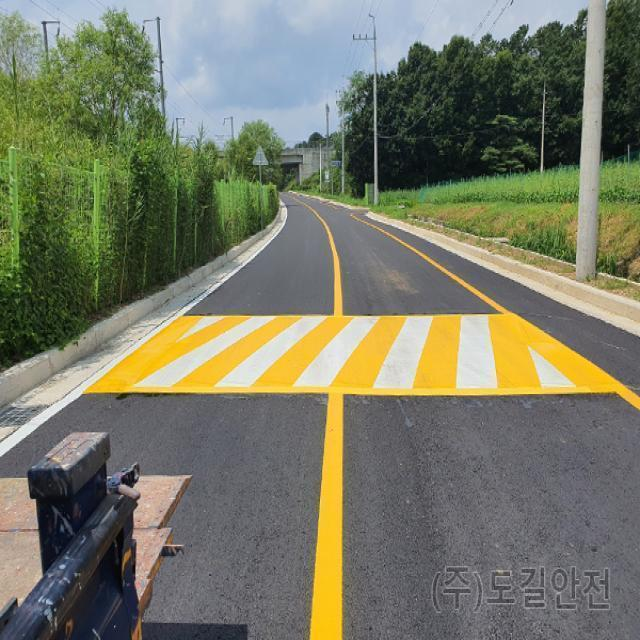speedbreaker: (70, 318, 624, 410)
